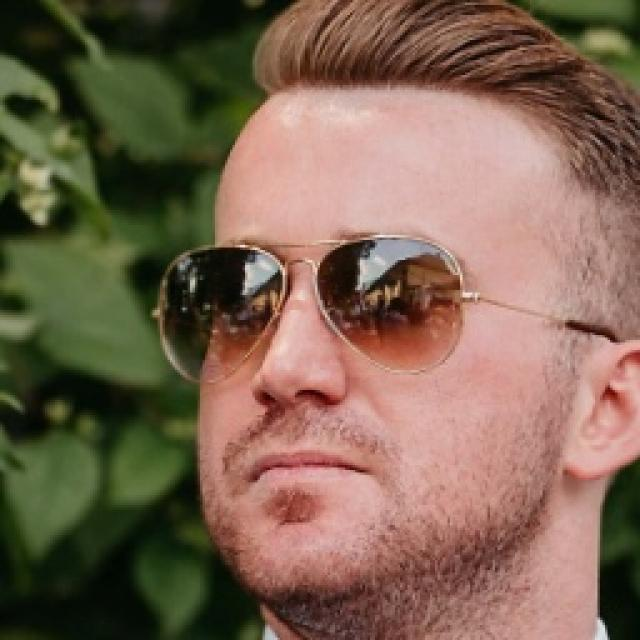glasses: (139, 221, 485, 403)
